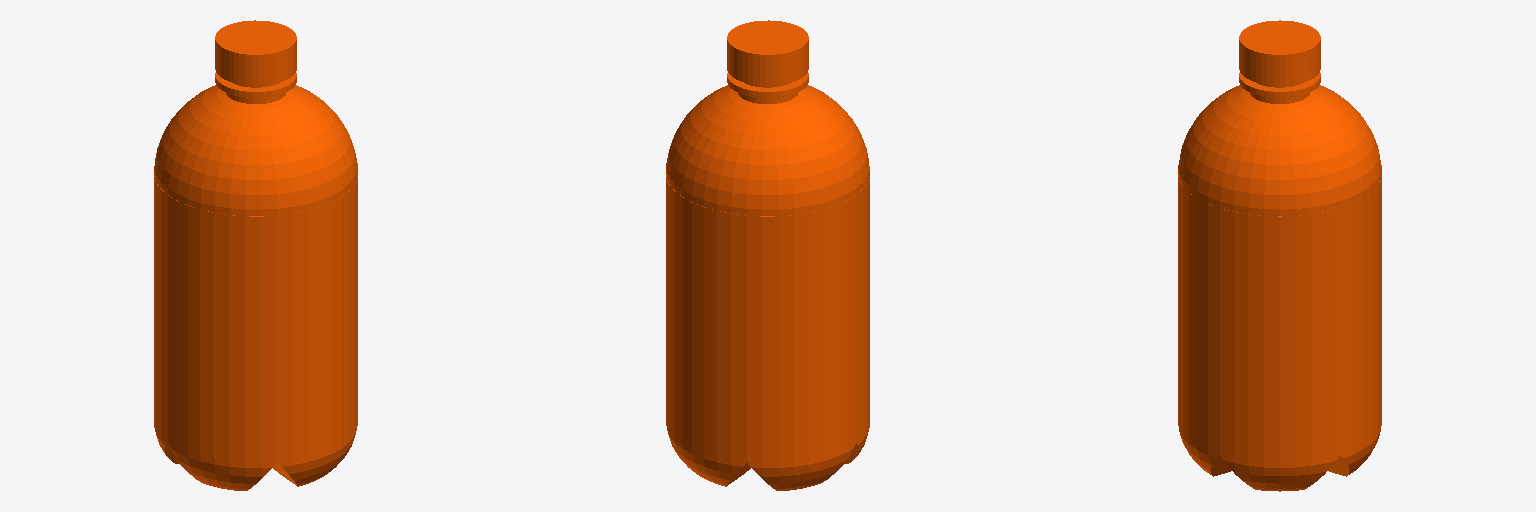
URDF robot description (waterbottle):
<?xml version="1.0" ?>
<robot name="waterbottle">
   <material name="obj_color">
      <color rgba="1.0 0.423529411765 0.0392156862745 1.0"/>
   </material>
   <link name="top">
      <inertial>
         <origin rpy="0.0002592313138627991 0.0007905222754996747 0.0007905222761683887" xyz="3.669061792035987e-11 -4.427036829020031e-11 -0.009460578195694453"/>
         <mass value="0.6119963516983163"/>
         <inertia ixx="0.0007905222755961444" ixy="-2.34955682129696e-13" ixz="1.029928675945415e-12" iyy="0.000790522276071919" iyz="-1.611892320622999e-12" izz="0.0002592313138627991"/>
      </inertial>
      <visual>
         <origin rpy="0 0 0" xyz="0 0 0"/>
         <geometry>
            <mesh filename="top_watertight_tiny.stl" scale="1 1 1"/>
         </geometry>
         <material name="obj_color"/>
      </visual>
      <collision>
         <origin rpy="0 0 0" xyz="0 0 0"/>
         <geometry>
            <mesh filename="top_watertight_tiny.obj" scale="1 1 1"/>
         </geometry>
      </collision>
   </link>
   <link name="bottom">
      <inertial>
         <origin rpy="1.633333333194242e-08 1.633333333194243e-08 1.633333333357667e-08" xyz="0.3464080000000008 0.3464080000000008 0.3464080000000008"/>
         <mass value="0.0009800000000000017"/>
         <inertia ixx="1.633333333248717e-08" ixy="5.447480642029219e-19" ixz="5.447480642029219e-19" iyy="1.633333333248717e-08" iyz="5.447480642029219e-19" izz="1.633333333248717e-08"/>
      </inertial>
      <visual>
         <origin rpy="0 0 0" xyz="0 0 0"/>
         <geometry>
            <mesh filename="bottom_watertight_tiny.stl" scale="1 1 1"/>
         </geometry>
         <material name="obj_color"/>
      </visual>
   </link>
   <link name="world"/>
   <joint name="world_to_base" type="fixed">
      <origin xyz="0 0 0"/>
      <axis xyz="0 0 0"/>
      <parent link="world"/>
      <child link="bottom"/>
   </joint>
   <joint name="rotation" type="revolute">
      <origin xyz="0 0 0"/>
      <axis xyz="0 0 -1"/>
      <parent link="bottom"/>
      <child link="top"/>
      <dynamics damping="1.0" friction="1.0"/>
      <limit effort="0.1" velocity="0.1" lower="0" upper="0.001"/>
   </joint>
</robot>

--- What the picture shows (computed from the rendered views, not written in the file) ---
The picture shows the robot from 3 angles, left to right: view 1: azimuth 30°, elevation 25°; view 2: azimuth 150°, elevation 25°; view 3: azimuth 270°, elevation 25°; orthographic projection.
Model waterbottle with 3 links and 2 joints (1 revolute, 1 fixed), rooted at world, posed all joints at 0.
Links seen in each view (by area): view 1: top; view 2: top; view 3: top.
Boxes of the visible links, left/top/right/bottom form: top: left=154, top=20, right=357, bottom=490; top: left=666, top=20, right=869, bottom=490; top: left=1178, top=20, right=1381, bottom=491.
Bounding box of the posed robot: 0.0602 × 0.0602 × 0.1365 m (x, y, z).
Meshes: 2 distinct files referenced, 1 mesh visuals loaded (1 binary STL); not drawn: 1 (reference not matched to a file when rendering).
